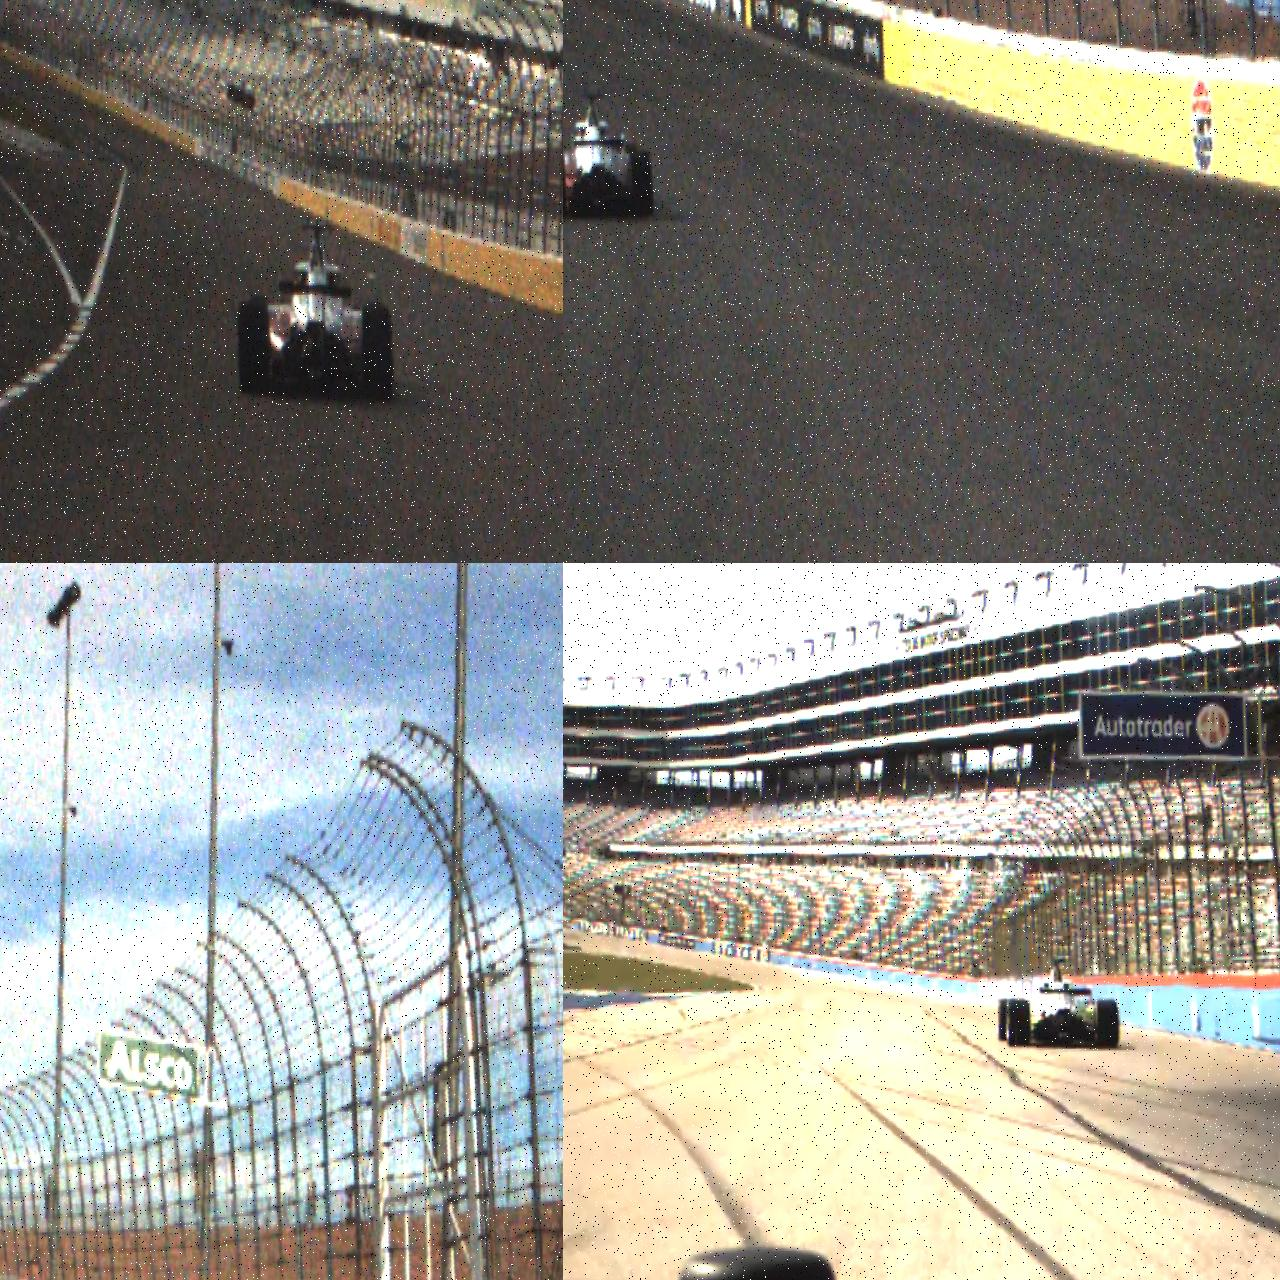AV: (232, 219, 395, 410), (994, 956, 1120, 1053), (563, 89, 653, 223)
Wheel: (236, 298, 272, 396), (362, 304, 394, 404), (632, 150, 654, 220), (1094, 998, 1120, 1049), (1006, 998, 1030, 1047), (996, 998, 1014, 1042)
